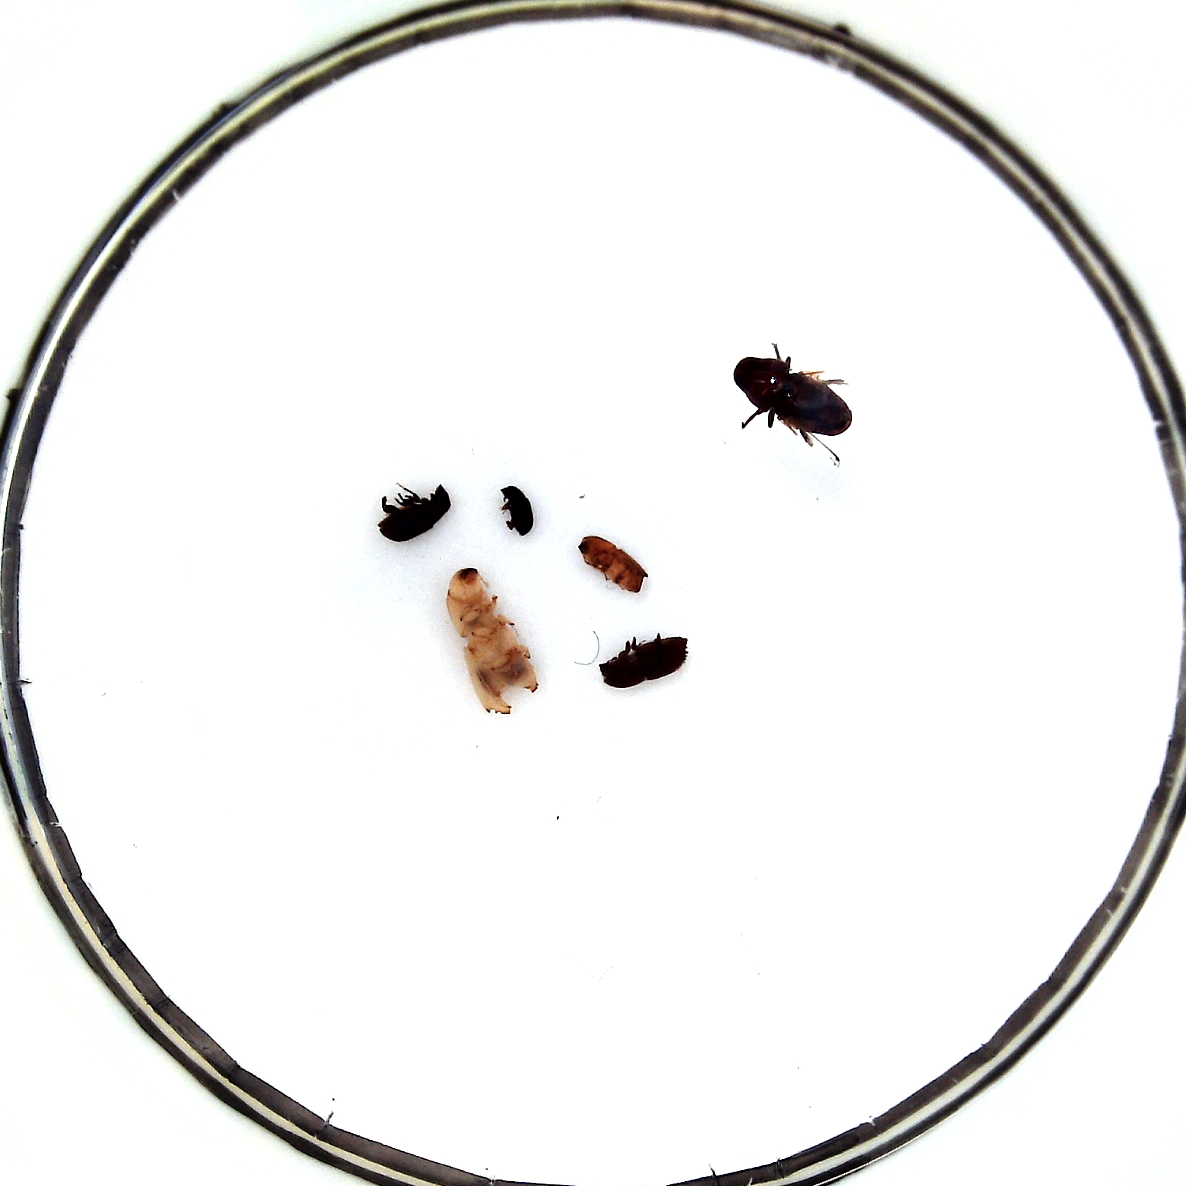Boerner: (446, 568, 537, 714)
Leconte: (733, 357, 851, 436)
acuminatus: (499, 485, 533, 535)
armandi: (379, 484, 452, 542)
linnaeus: (601, 634, 687, 690), (578, 535, 648, 595)
